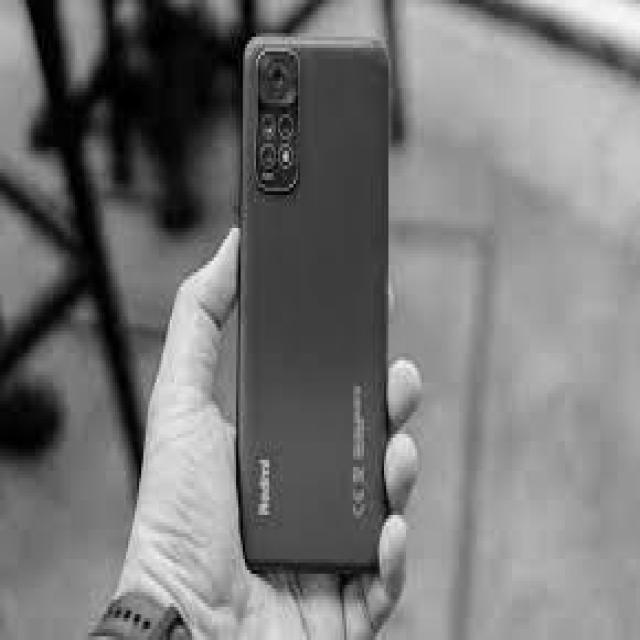No gun_phone: (236, 34, 392, 577)
